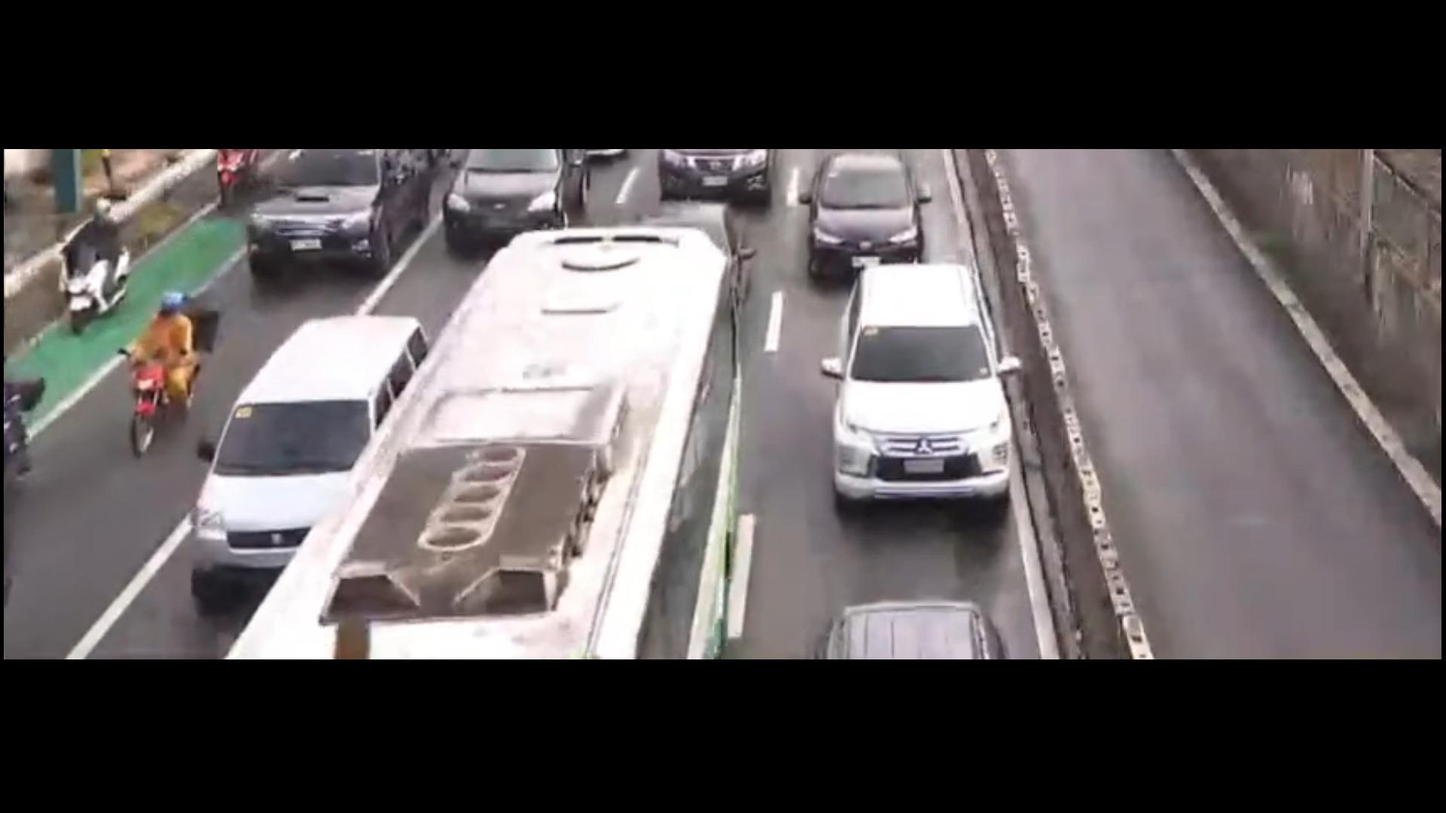Bus: (219, 213, 761, 652)
Motorcycle: (90, 285, 230, 458), (34, 181, 142, 343)
SUV: (827, 249, 1040, 530), (247, 152, 442, 264), (439, 149, 586, 250)
Sedan: (801, 147, 942, 274)
Van: (189, 300, 441, 621)
